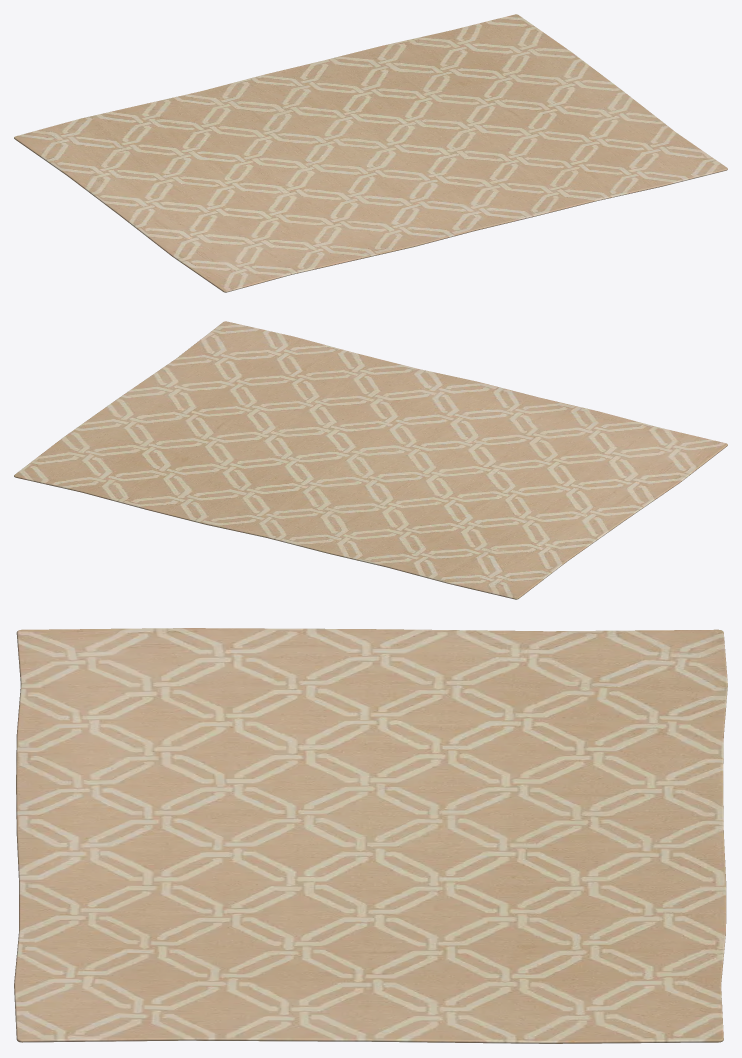
File: abo-B071ZJ6C5Z.glb
The picture shows the model from 3 angles, top to bottom: view 1: azimuth 30°, elevation 25°; view 2: azimuth 150°, elevation 25°; view 3: azimuth 270°, elevation 25°; orthographic projection. The views are drawn at different scales.
Bounding box in the file's own units: 3.36 × 0.0199 × 2.45.
1 material, 1 textured.
